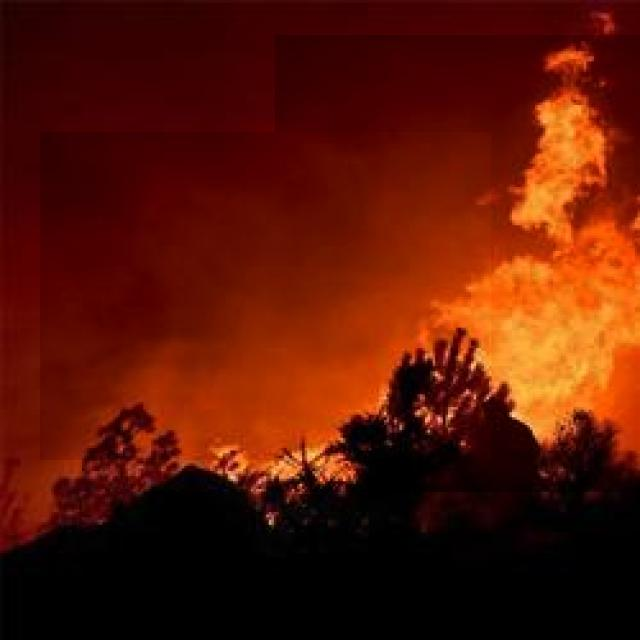Fire: (275, 35, 640, 492)
Smoke: (40, 132, 491, 460)
